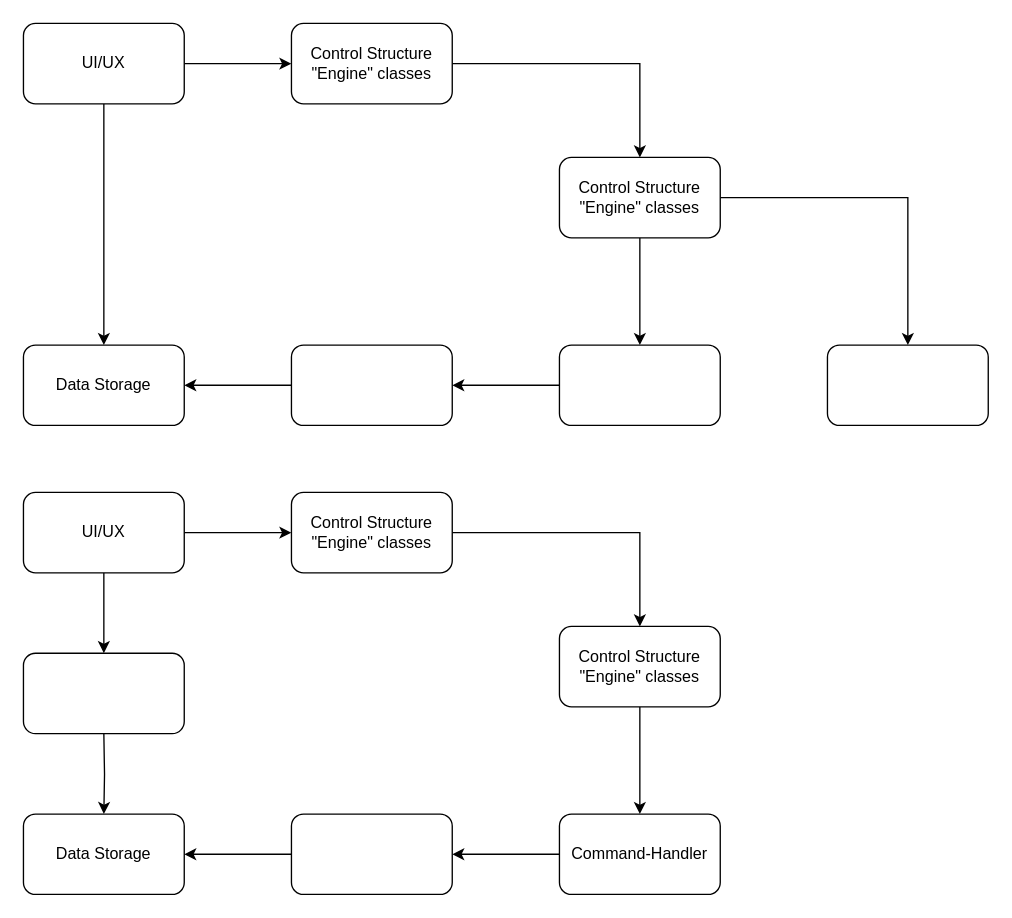
This 1012x918 diagram has some shape labels left out. Here are the shapes that lost their labels. From the top down, the box of each, then its label:
(290, 344, 452, 425): Reducer
(558, 344, 720, 425): Redux Actions
(826, 344, 988, 425): Redux Sagas (API Calls)
(22, 652, 184, 734): Queries
(290, 813, 452, 894): Event Handler
